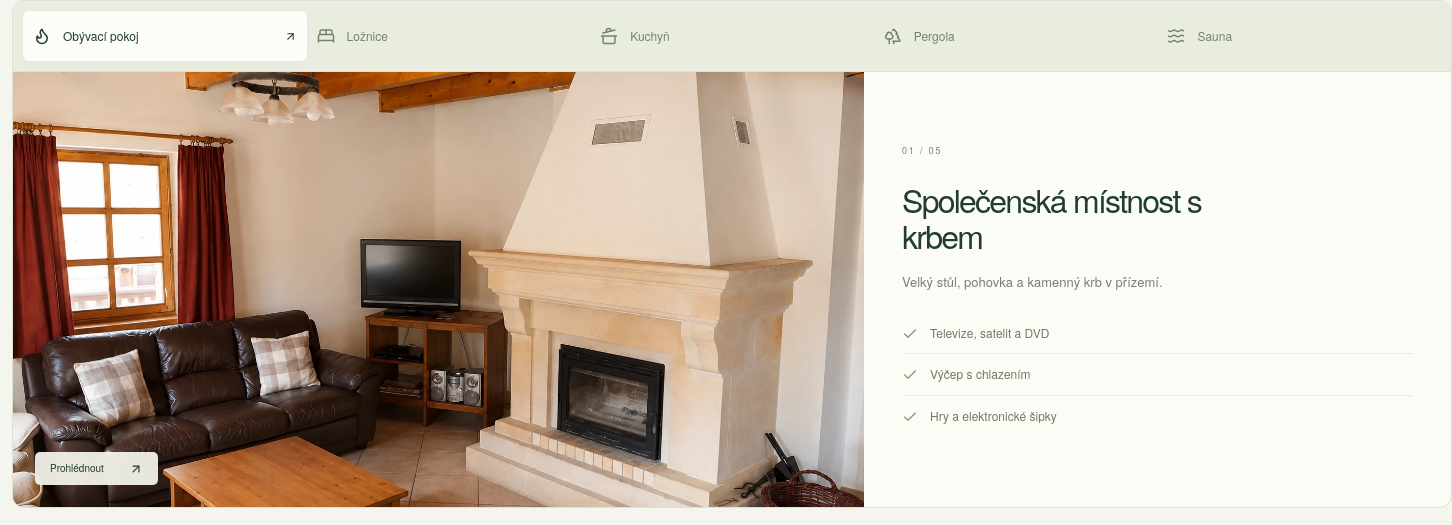
interactive property pages › switches room panels using both pointer and keyboard controls
This screenshot has width=1452, height=525.
Step 1. Click the tab "Kuchyň" → point(650, 36), box [590,11,874,61]
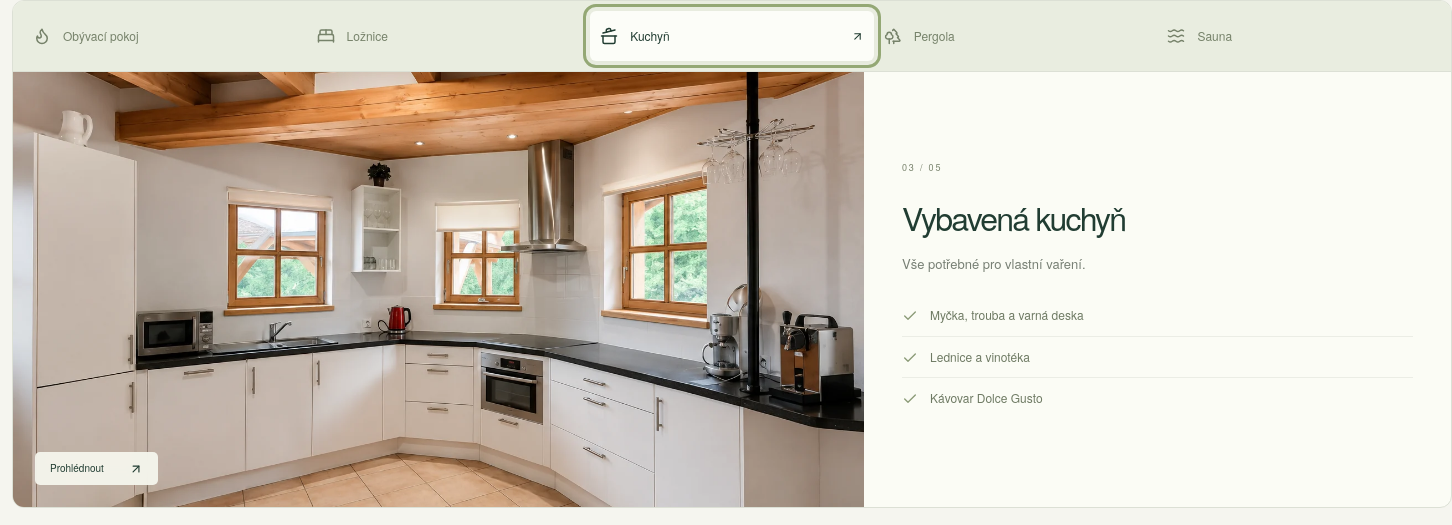
Result: the panel shows "Vybavená kuchyň" at [902,194,1125,240]
Step 2. Press Arrowright
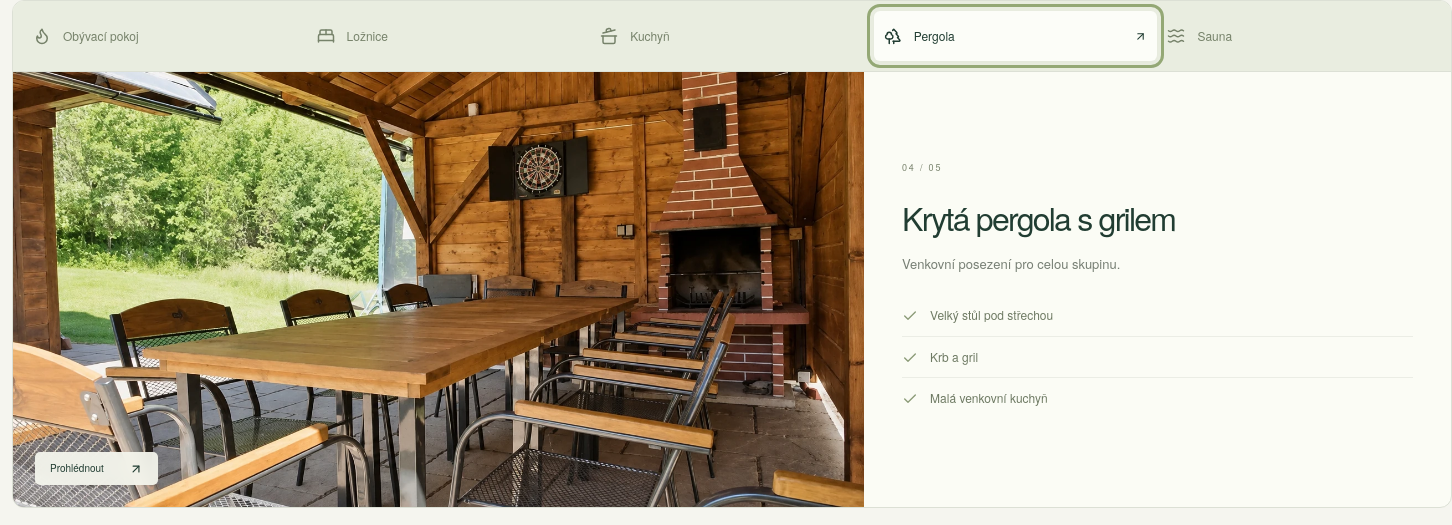
Result: the panel shows "Krytá pergola s grilem" at [902,194,1175,240]
